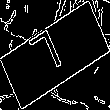L_SE: (34, 25, 76, 85)
